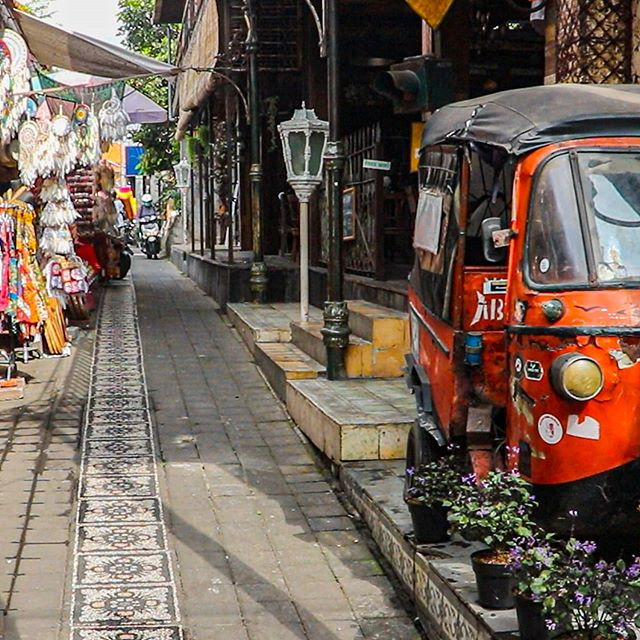building: (178, 1, 640, 319)
car: (410, 98, 640, 523)
light pole: (277, 107, 329, 361)
motorcycle: (132, 214, 176, 265)
